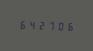four: (26, 19, 34, 30)
seven: (45, 19, 53, 31)
six: (17, 19, 25, 30), (63, 20, 71, 31)
two: (36, 19, 44, 30)
zero: (54, 20, 62, 31)
